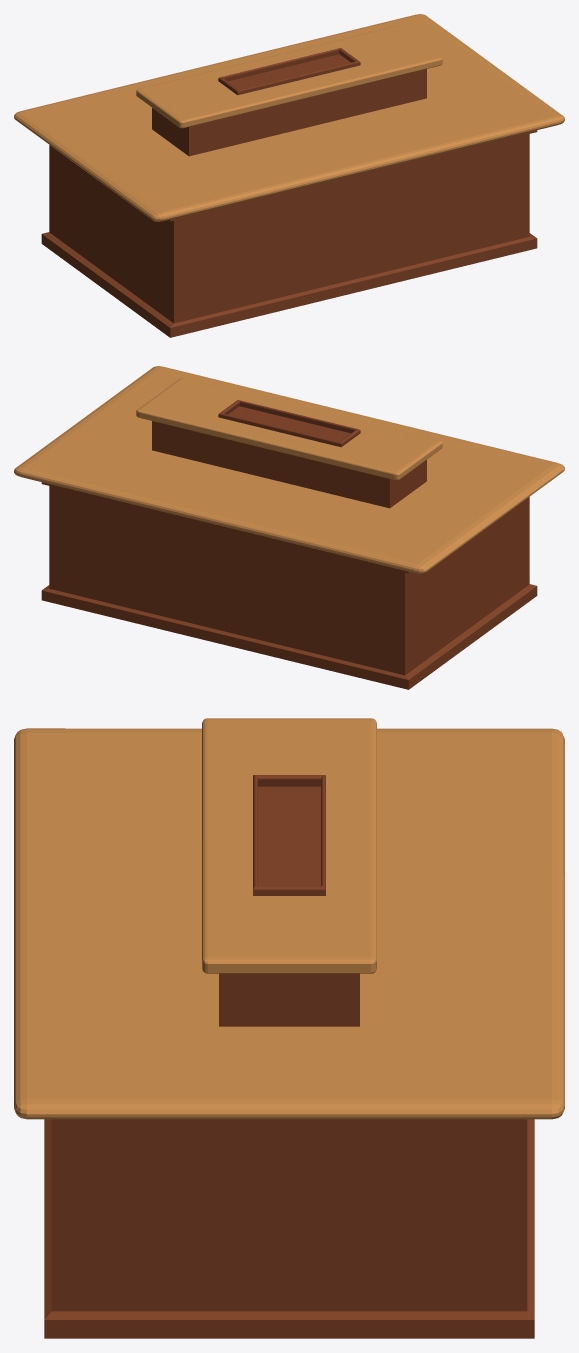
The model's file is Restaurant_Isla_NoTextures.fbx.
3 renders of one model, top to bottom at view 1: azimuth 30°, elevation 25°; view 2: azimuth 150°, elevation 25°; view 3: azimuth 270°, elevation 25°, orthographic. The views are drawn at different scales.
Visible parts, largest first — view 1: m_Mesada_Isla; view 2: m_Mesada_Isla; view 3: m_Mesada_Isla.
Boxes of the visible parts, x1,y1,x2,y2 form: m_Mesada_Isla: (14, 14, 564, 337); m_Mesada_Isla: (14, 366, 564, 689); m_Mesada_Isla: (14, 718, 564, 1338).
Size of the model in its own units: 679 by 278 by 412.
